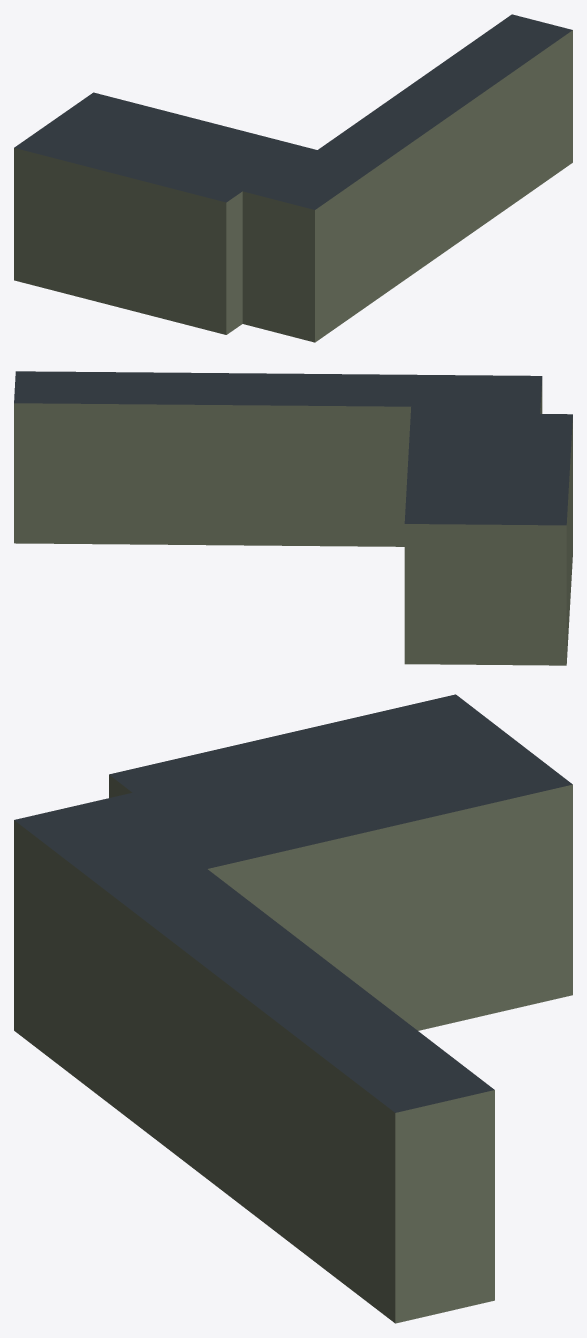
Rendered from nyc-1022614-0.glb.
3 renders of one model, top to bottom at view 1: azimuth 30°, elevation 25°; view 2: azimuth 150°, elevation 25°; view 3: azimuth 270°, elevation 25°, orthographic. The views are drawn at different scales.
Visible parts, largest first — view 1: nyc-1022614-0; view 2: nyc-1022614-0; view 3: nyc-1022614-0.
Boxes of the visible parts, x1,y1,x2,y2 form: nyc-1022614-0: (14, 14, 572, 342); nyc-1022614-0: (14, 371, 572, 665); nyc-1022614-0: (14, 694, 572, 1323).
Bounding box in the file's own units: 27.66 × 6.49 × 15.61.
